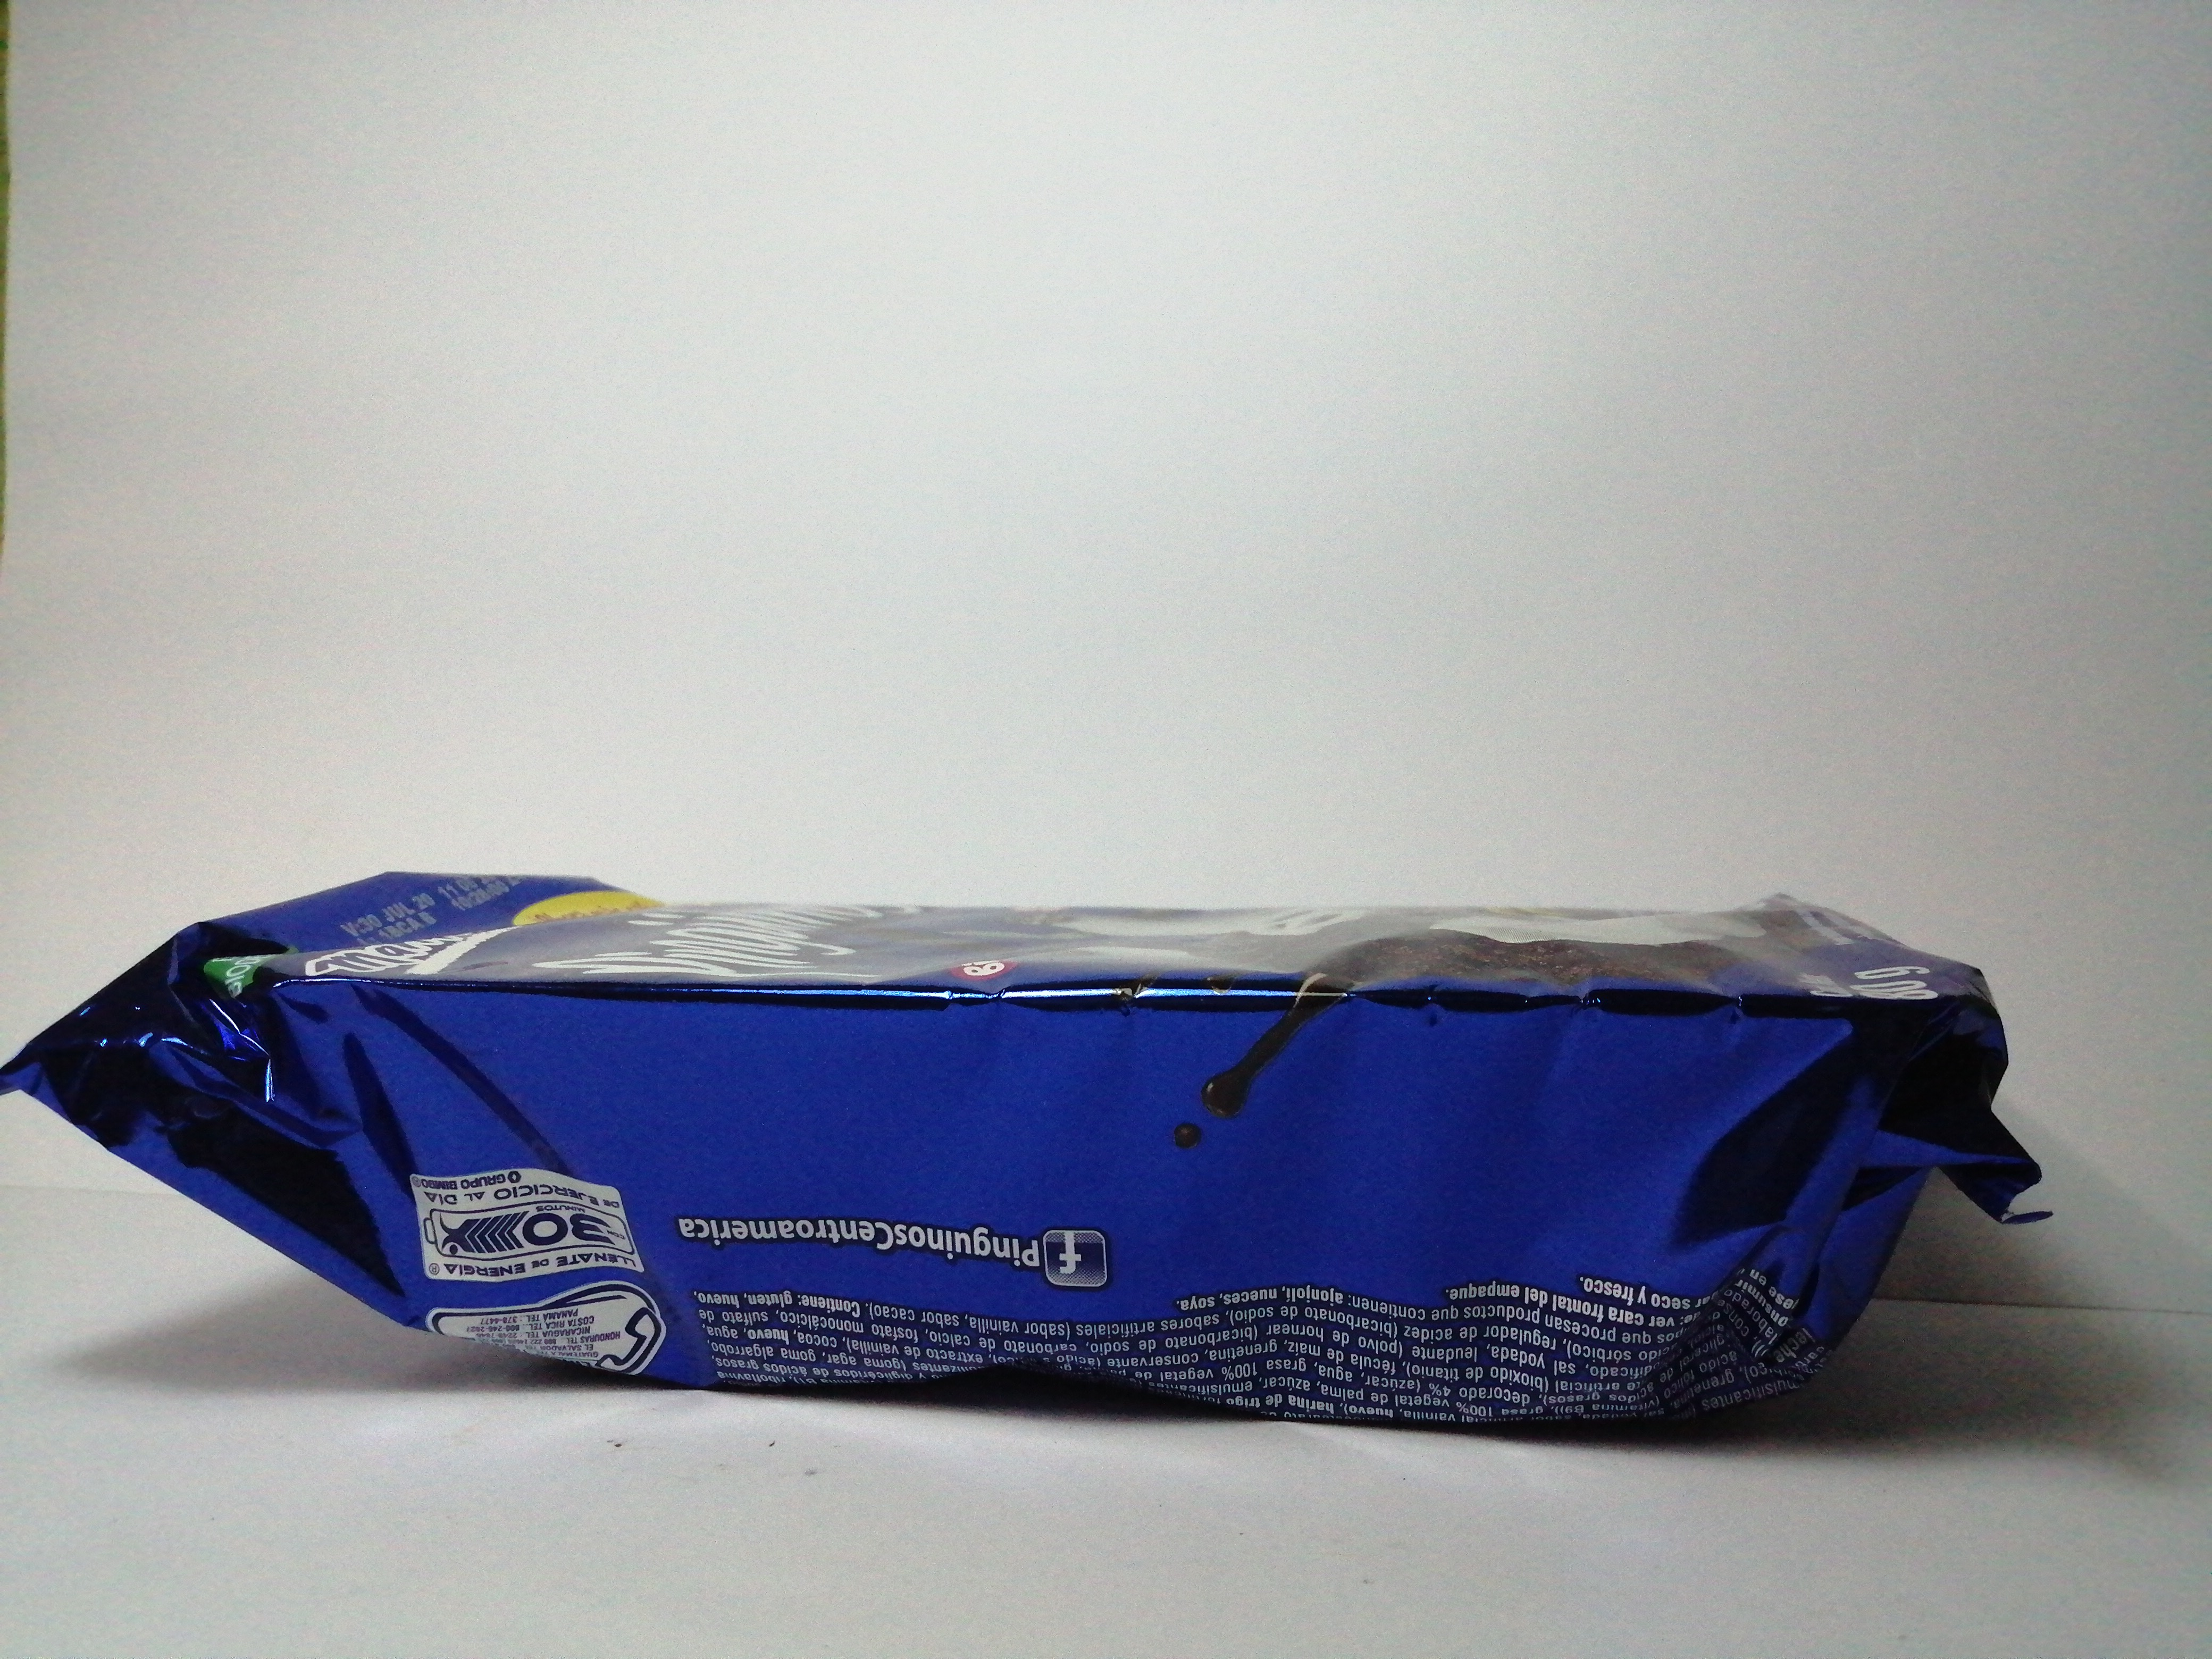pinguino: (12, 873, 2026, 1441)
